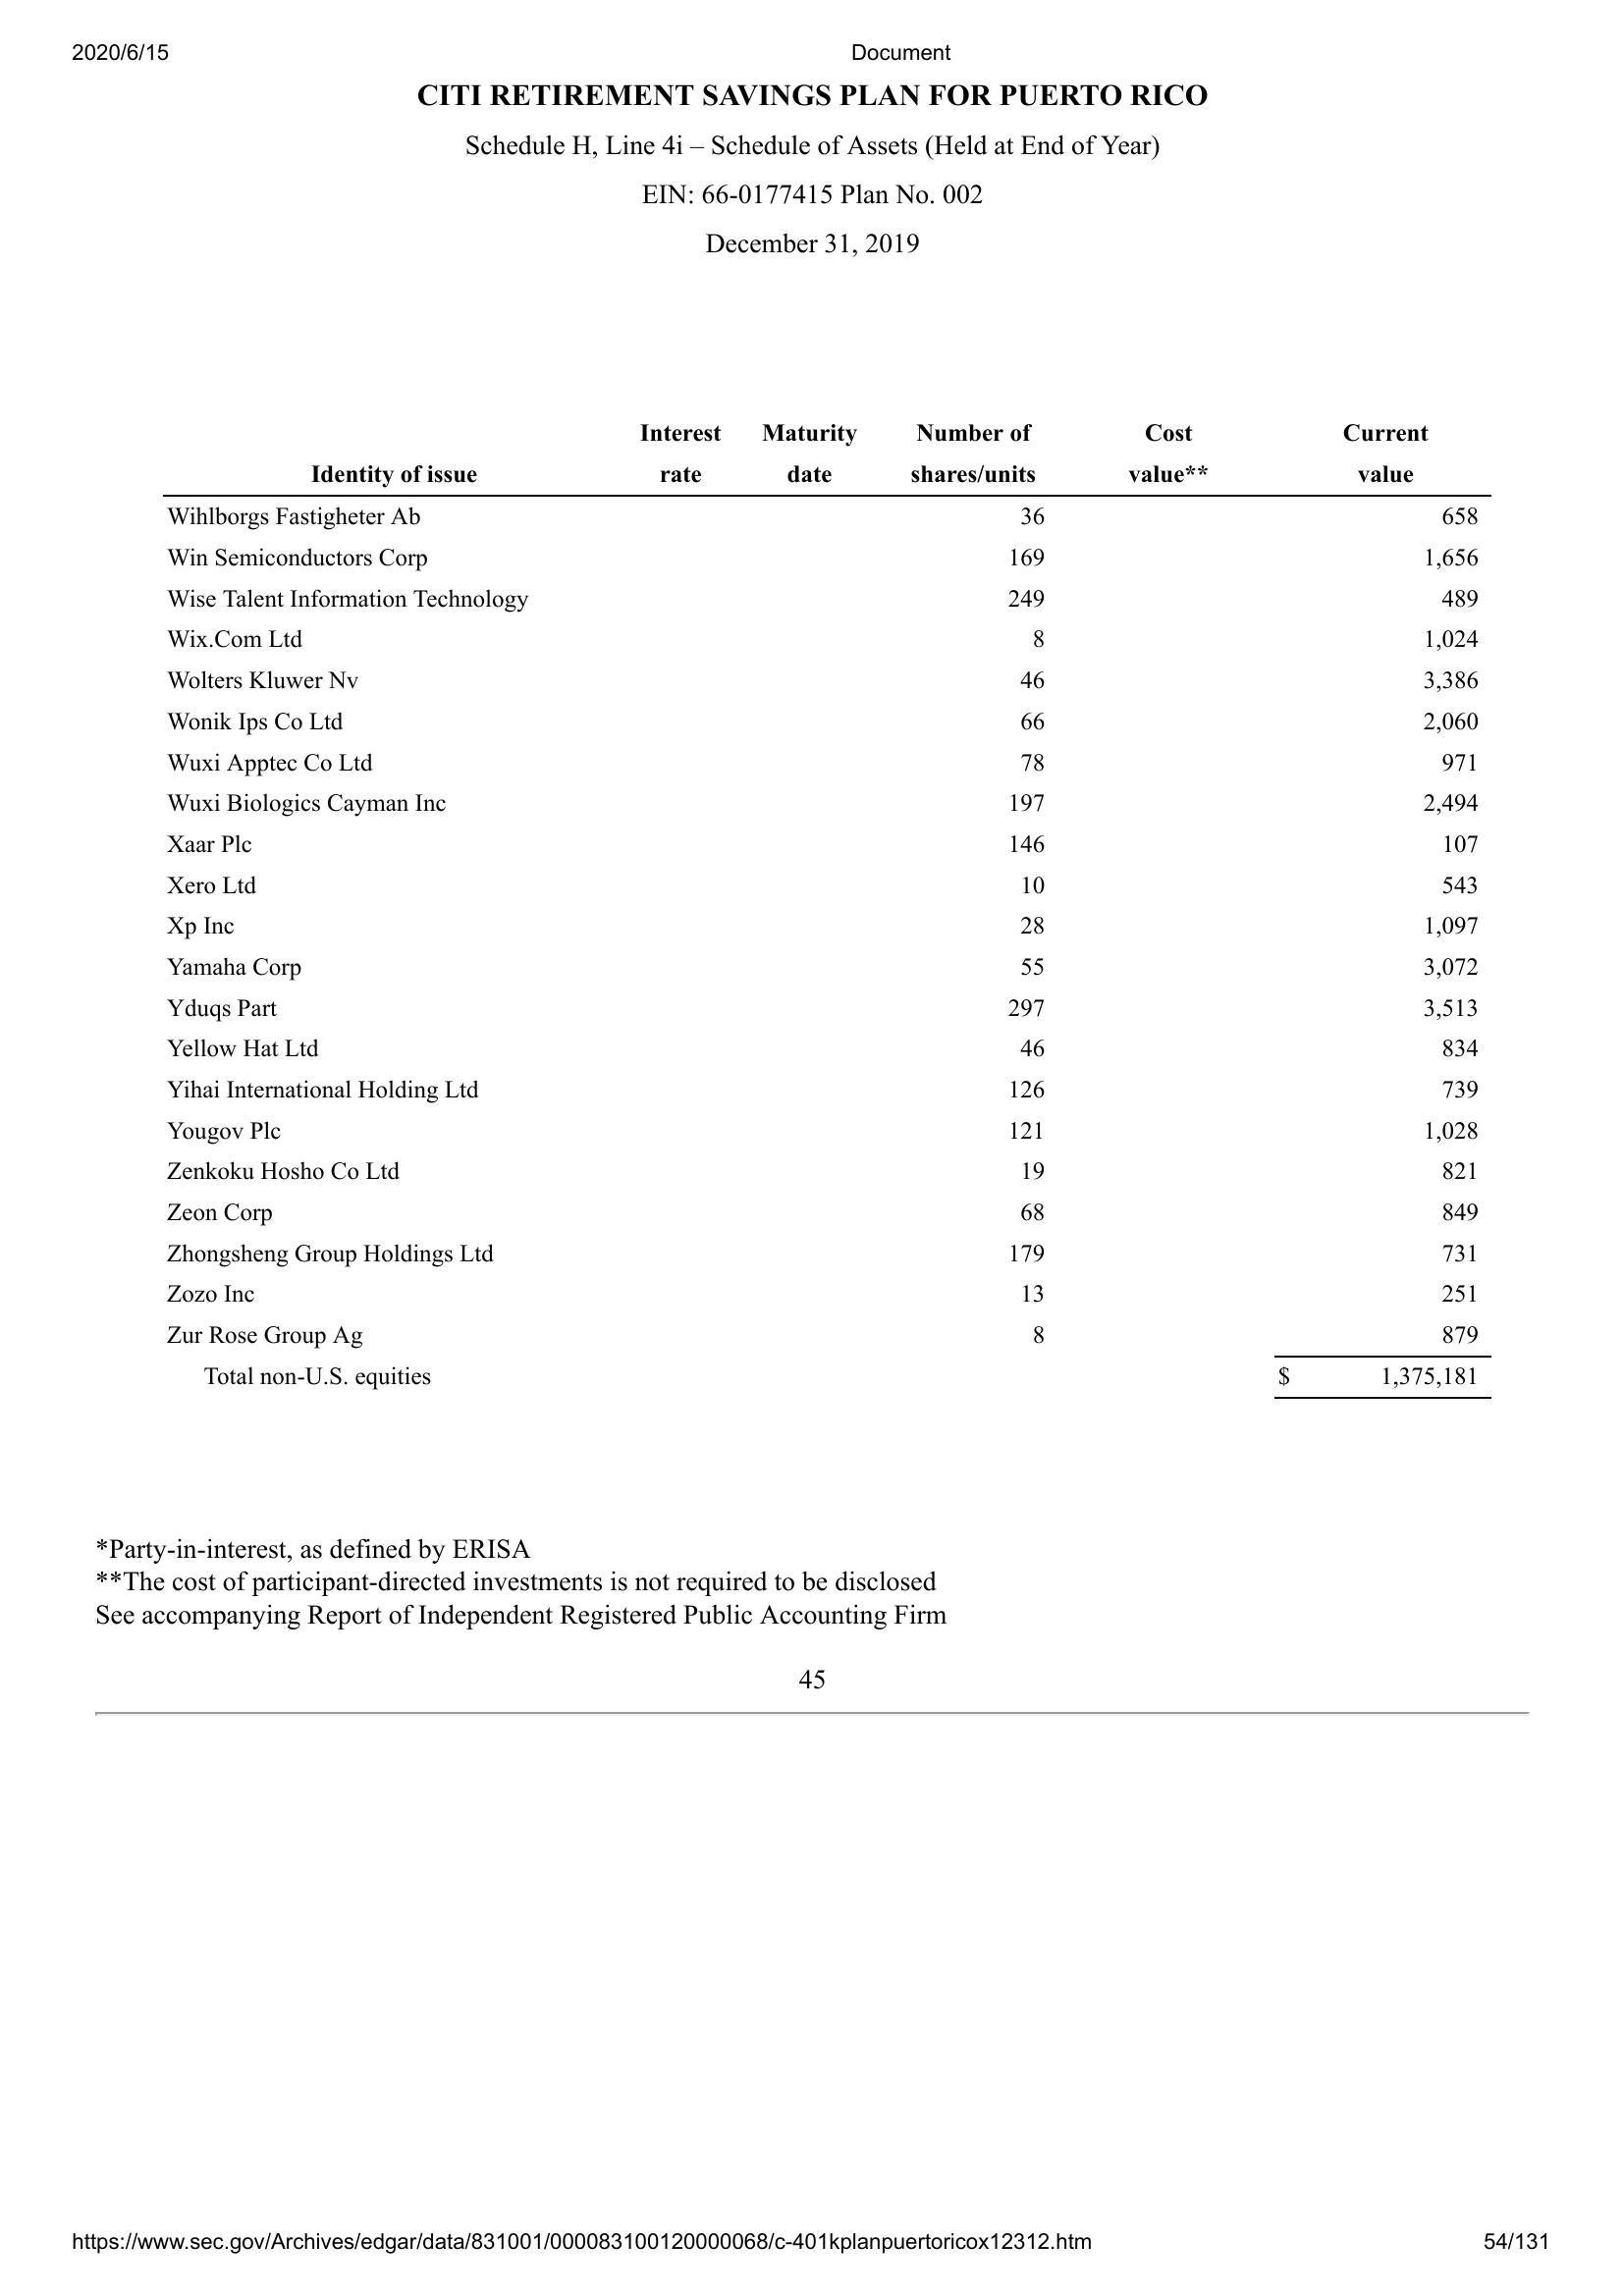table: (148, 420, 1498, 1404)
